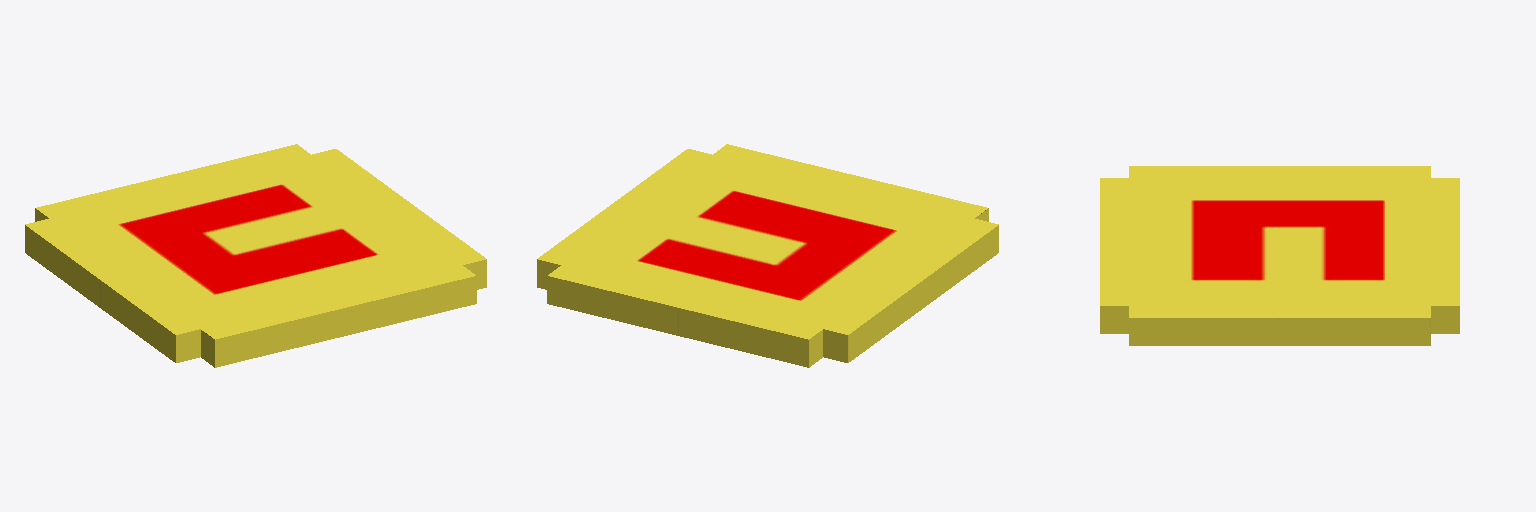
The picture shows the model from 3 angles: view 1: azimuth 30°, elevation 25°; view 2: azimuth 150°, elevation 25°; view 3: azimuth 270°, elevation 25°; orthographic projection.
Visible parts, largest first — view 1: Cube.003_Cube.005; view 2: Cube.003_Cube.005; view 3: Cube.003_Cube.005.
Boxes of the visible parts, x1=… form: Cube.003_Cube.005: x1=25, y1=144, x2=486, y2=367; Cube.003_Cube.005: x1=537, y1=144, x2=998, y2=367; Cube.003_Cube.005: x1=1100, y1=166, x2=1459, y2=345.
Size of the model in its own units: 2 by 0.1731 by 2.
1 materials, 1 textured.